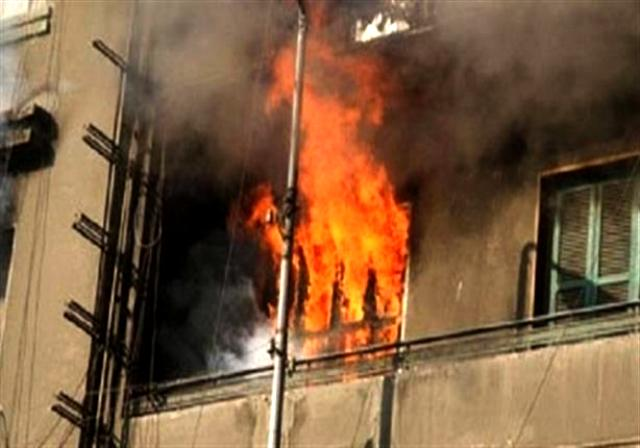fire: (0, 1, 638, 448), (226, 14, 418, 374)
